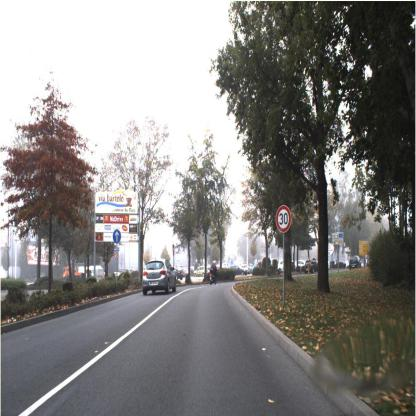mandatory: (112, 227, 121, 244)
prohibitory: (274, 203, 292, 236)
